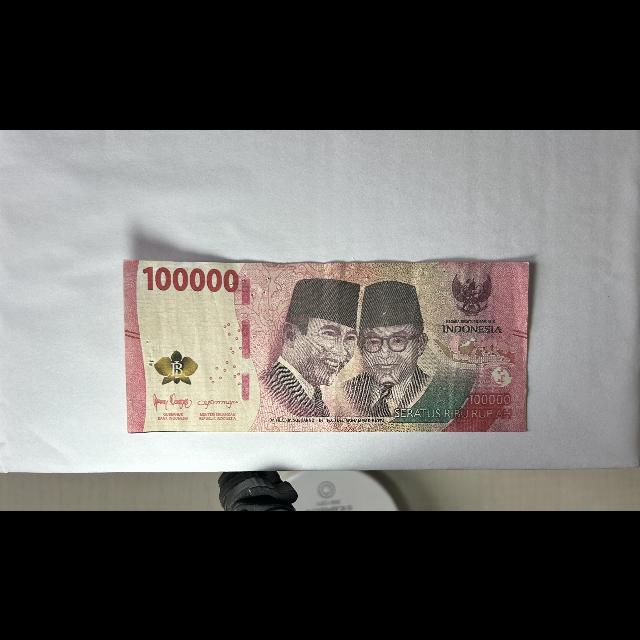Palsu-100k: (122, 257, 530, 433)
Tinta-Palsu-100k: (154, 348, 199, 385)
